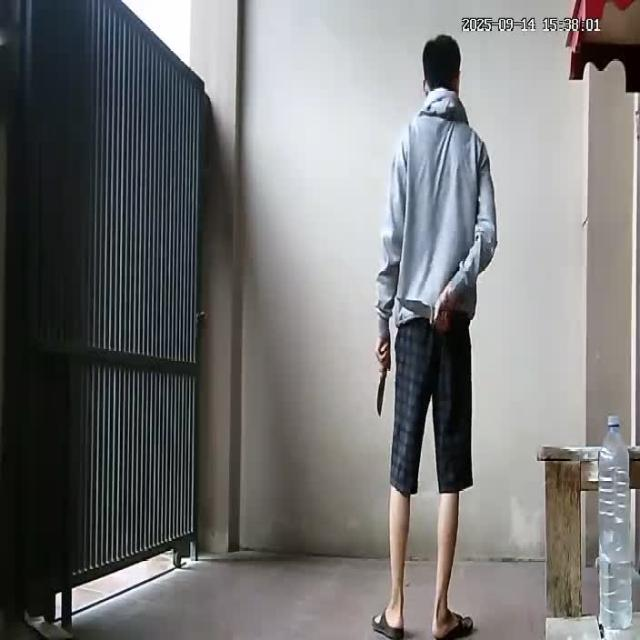senjata_tajam: (396, 294, 437, 325), (376, 366, 388, 418)
